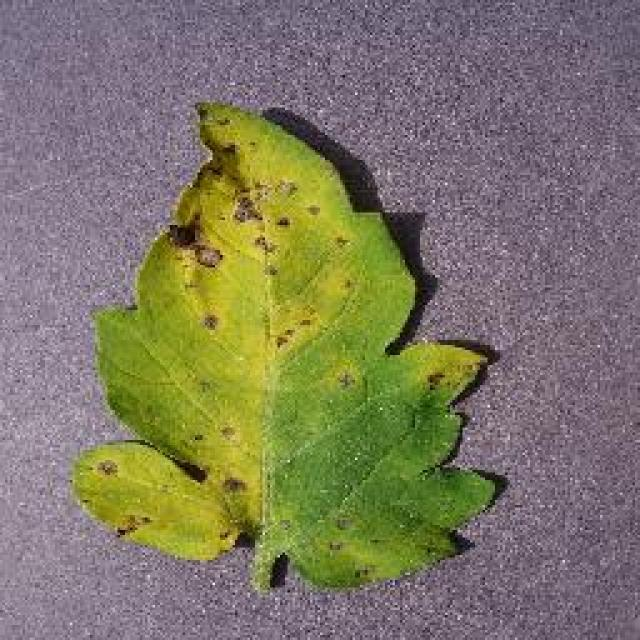Tomato Septoria spot leaf: (70, 99, 500, 594)
